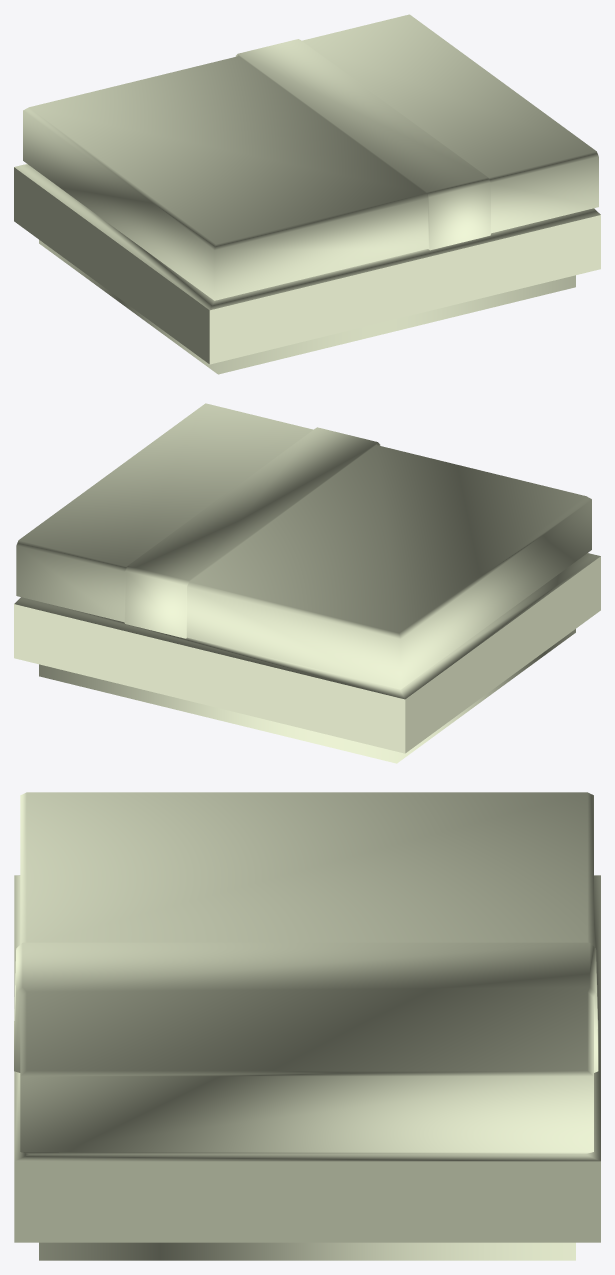
Rendered from hotl_bed.FBX.
The picture shows the model from 3 angles, top to bottom: view 1: azimuth 30°, elevation 25°; view 2: azimuth 150°, elevation 25°; view 3: azimuth 270°, elevation 25°; orthographic projection. The views are drawn at different scales.
Parts seen in each view (by area): view 1: bed; view 2: bed; view 3: bed.
Boxes of the visible parts, <box> form: bed: <box>14,14,600,374</box>; bed: <box>14,403,600,763</box>; bed: <box>14,792,600,1260</box>.
Bounding box in the file's own units: 2.71 × 0.9052 × 2.35.
